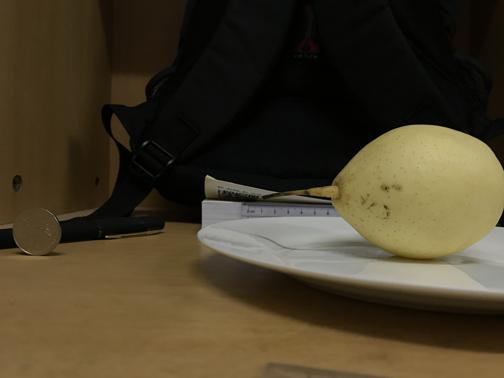coin: (12, 206, 60, 256)
pear: (327, 122, 502, 258)
